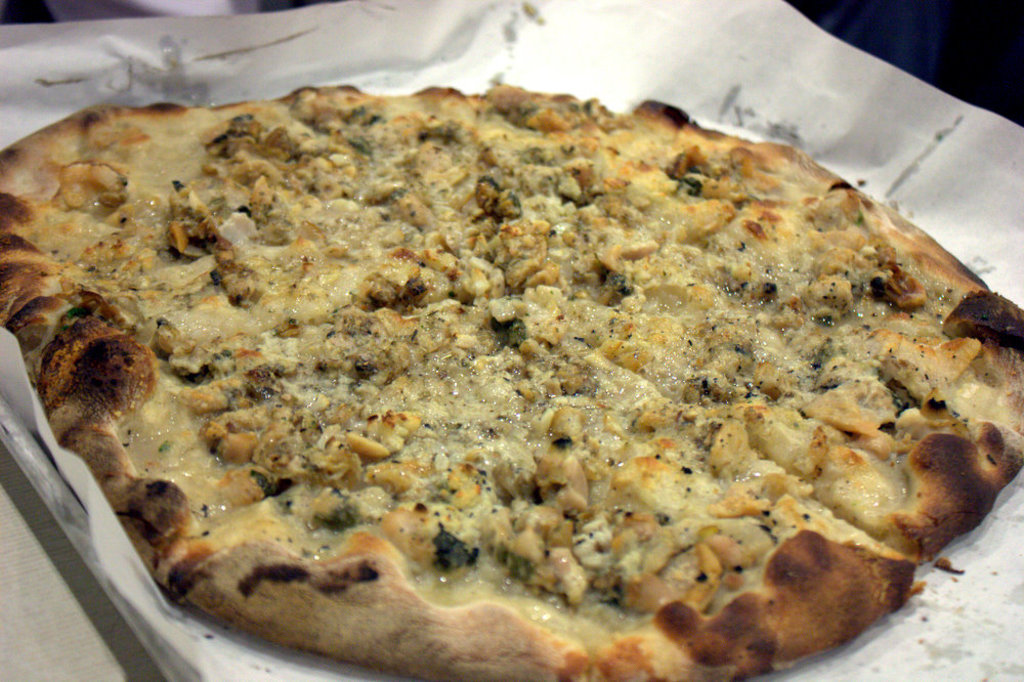Pizza: (0, 70, 1022, 680)
